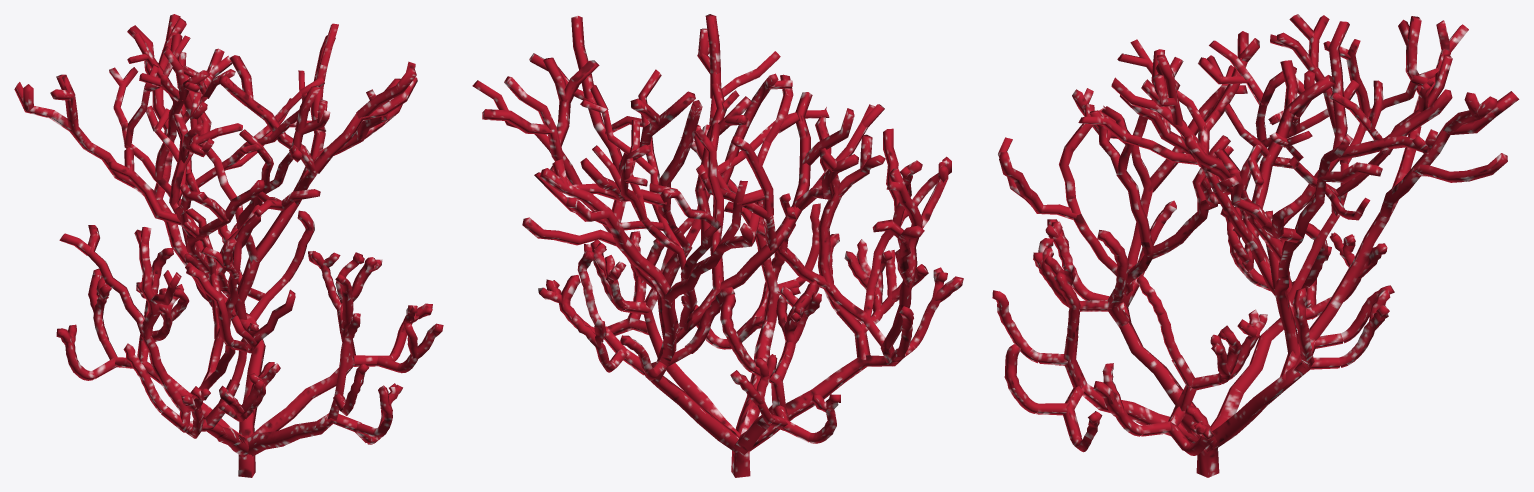
The model's file is RedGorgonian01.fbx.
3 views of the same model, side by side, from view 1: azimuth 30°, elevation 25°; view 2: azimuth 150°, elevation 25°; view 3: azimuth 270°, elevation 25° (orthographic). The views are drawn at different scales.
Parts seen in each view (by area): view 1: redgorgonian01; view 2: redgorgonian01; view 3: redgorgonian01.
Boxes of the visible parts, x1=… form: redgorgonian01: x1=14, y1=14, x2=443, y2=477; redgorgonian01: x1=472, y1=14, x2=963, y2=477; redgorgonian01: x1=992, y1=14, x2=1519, y2=477.
Bounding box in the file's own units: 0.6309 × 0.614 × 0.661.
